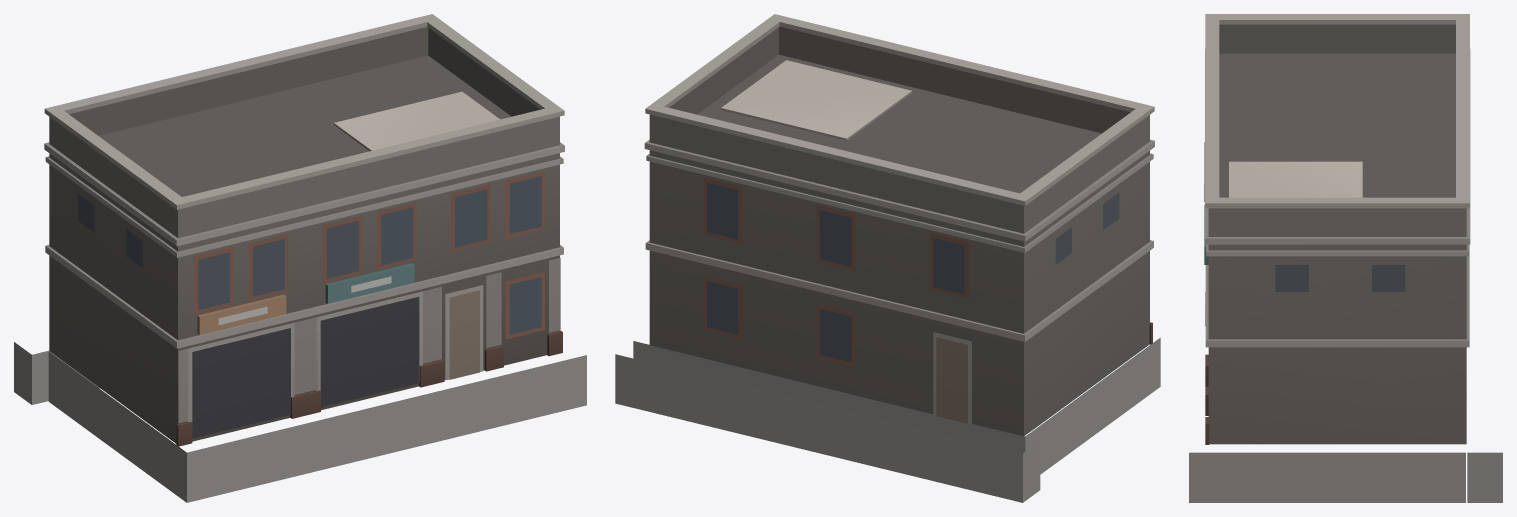
File: repair.lod2.glb
The picture shows the model from 3 angles, left to right: view 1: azimuth 30°, elevation 25°; view 2: azimuth 150°, elevation 25°; view 3: azimuth 270°, elevation 25°; orthographic projection. The views are drawn at different scales.
Bounding box in the file's own units: 12.96 × 8.7 × 8.46.
